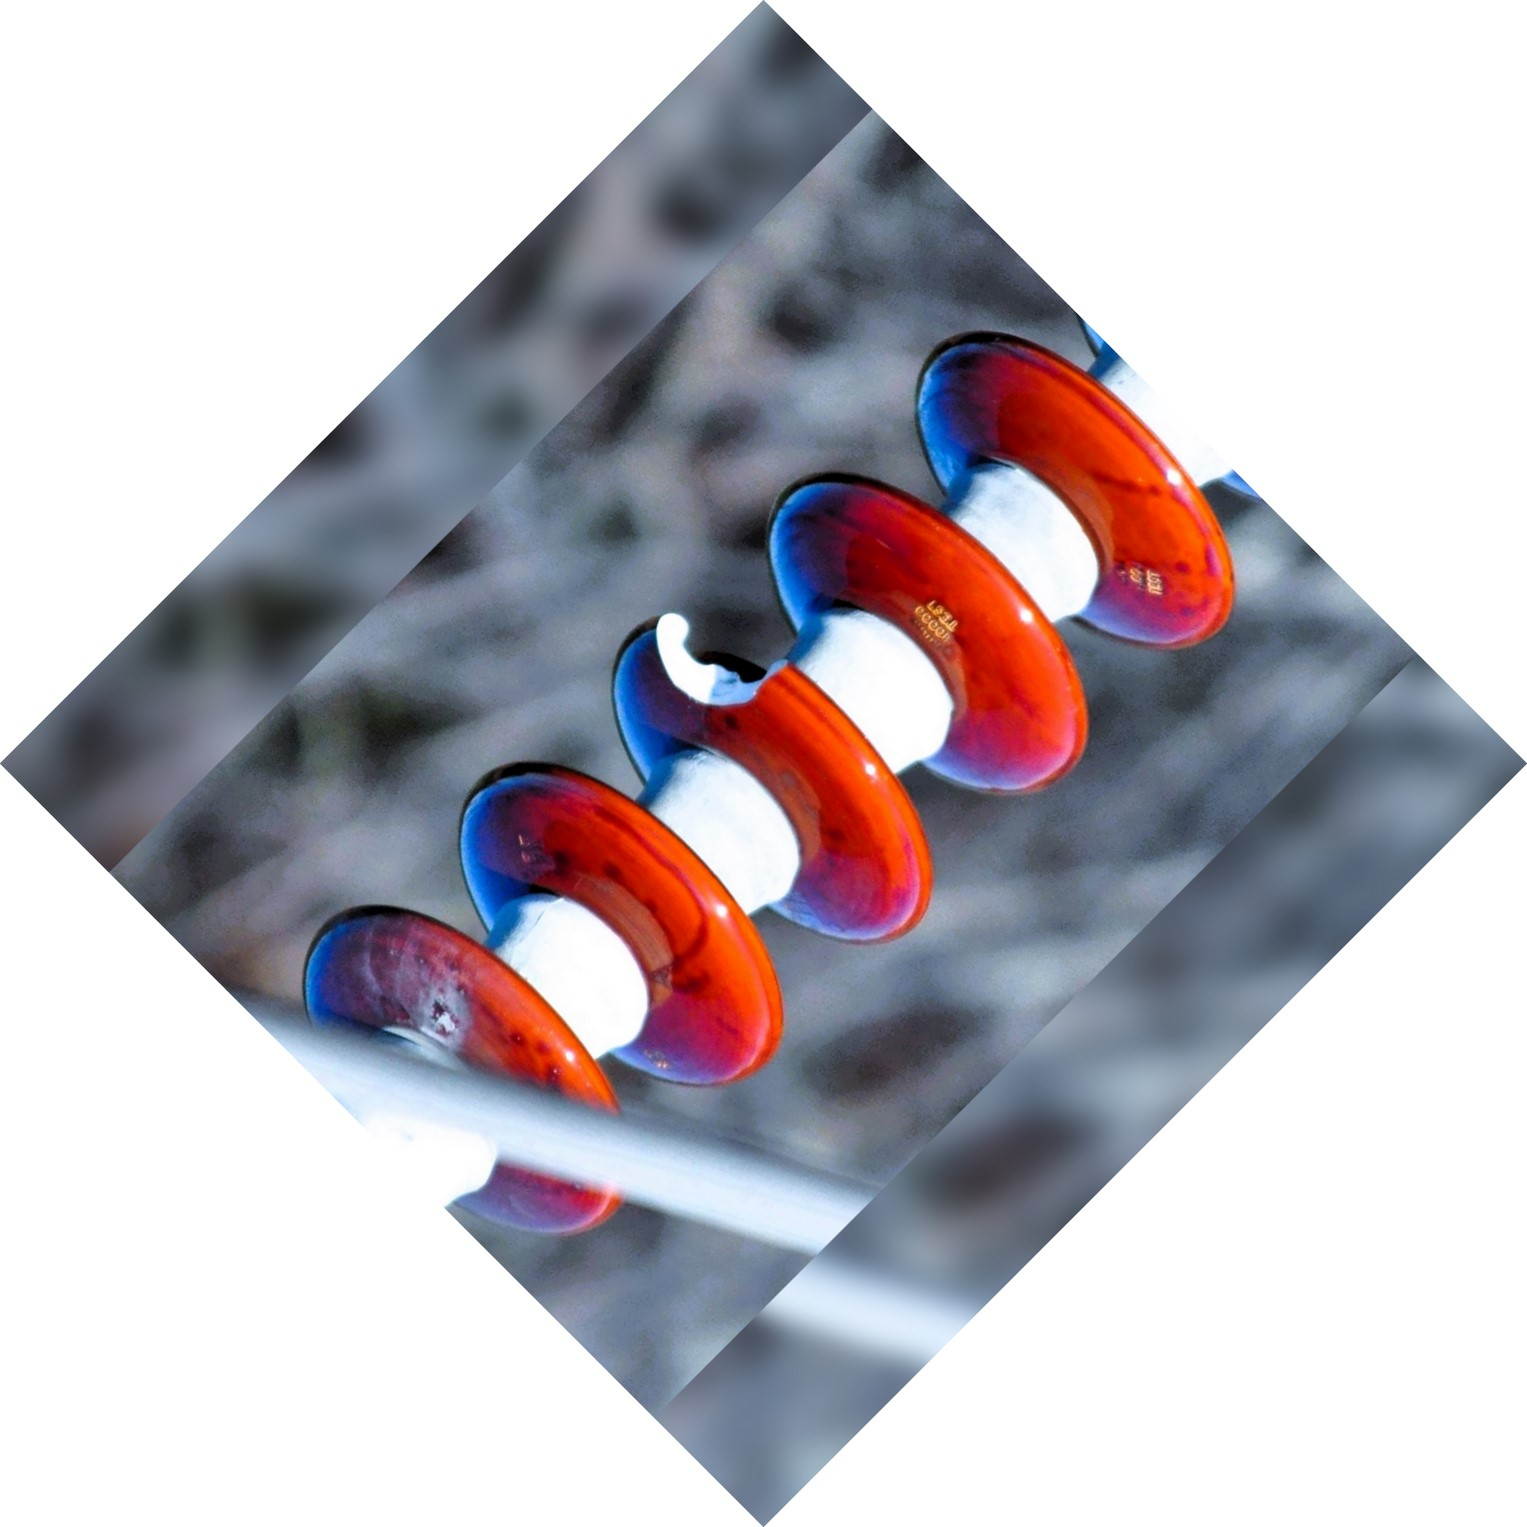insulator breakage: (598, 580, 954, 954)
